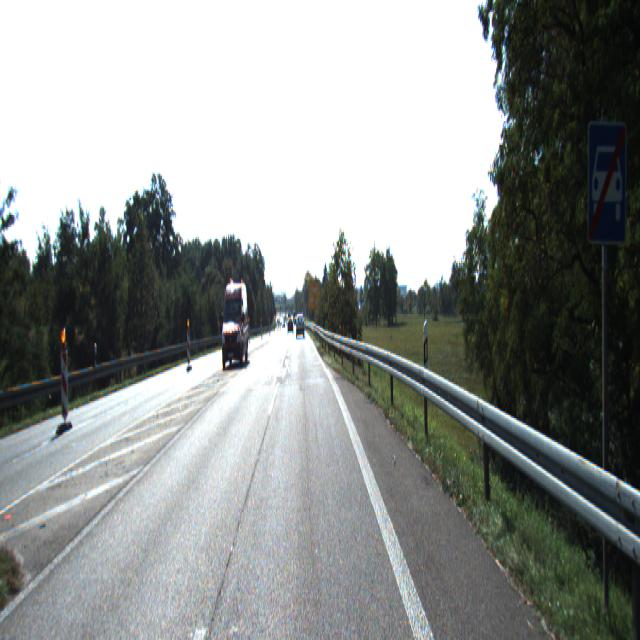Car: (220, 278, 248, 372), (296, 315, 305, 337)
